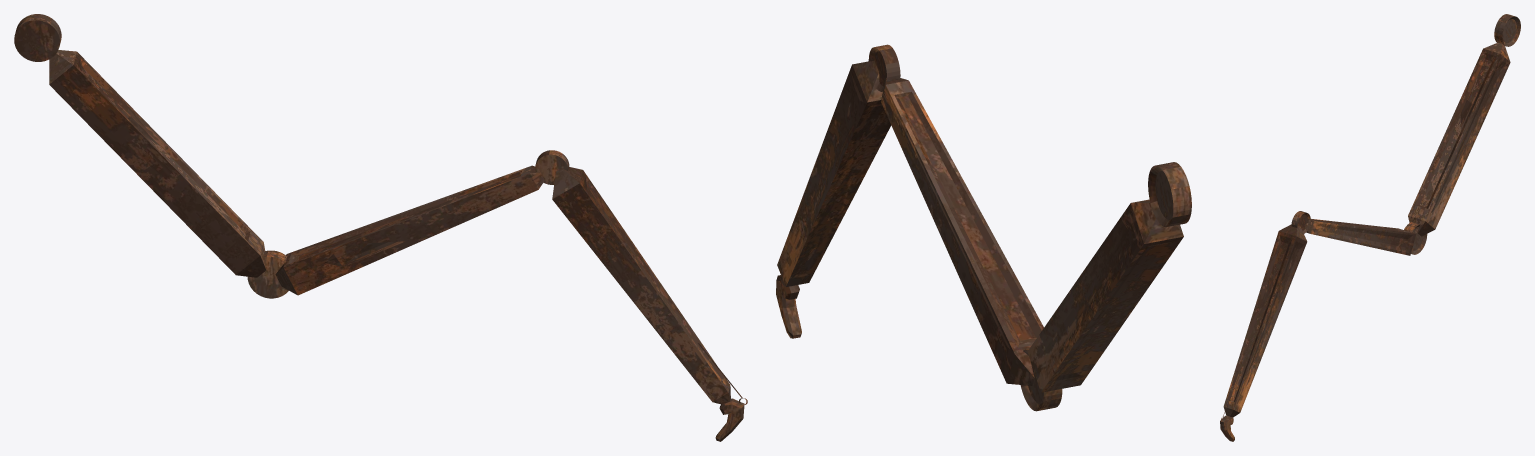
File: pata completa.obj
3 renders of one model, left to right at view 1: azimuth 30°, elevation 25°; view 2: azimuth 150°, elevation 25°; view 3: azimuth 270°, elevation 25°, orthographic. The views are drawn at different scales.
Parts seen in each view (by area): view 1: Pata_superior_, Paa_inferior, Pata_enmedio; view 2: Pata_enmedio, Pata_superior_, Paa_inferior; view 3: Pata_superior_, Paa_inferior, Pata_enmedio.
Part boxes in pixels (left/top/right/bottom): Pata_superior_: left=14, top=14, right=266, bottom=277; Paa_inferior: left=535, top=150, right=744, bottom=441; Pata_enmedio: left=247, top=165, right=544, bottom=298; Pata_enmedio: left=881, top=78, right=1062, bottom=411; Pata_superior_: left=1027, top=162, right=1191, bottom=392; Paa_inferior: left=776, top=44, right=900, bottom=338; Pata_superior_: left=1408, top=14, right=1520, bottom=236; Paa_inferior: left=1220, top=211, right=1310, bottom=441; Pata_enmedio: left=1304, top=219, right=1427, bottom=255.
Size of the model in its own units: 6.76 by 4.88 by 5.
1 material, 1 textured.
